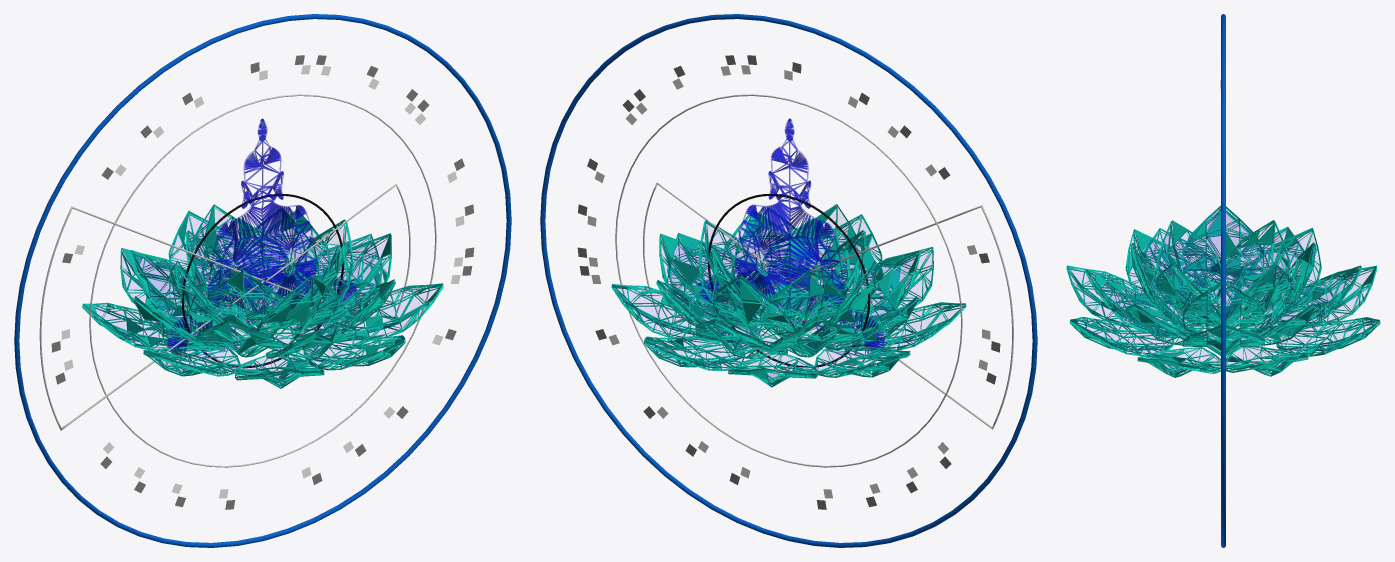
File: buddha.obj
3 renders of one model, left to right at view 1: azimuth 30°, elevation 25°; view 2: azimuth 150°, elevation 25°; view 3: azimuth 270°, elevation 25°, orthographic. The views are drawn at different scales.
Visible parts, largest first — view 1: lotus_wireframe, buddha, large_circle, lotus, medium_circle, outer_squares, inner_squares, sector_large, small_circle, sector_small; view 2: lotus_wireframe, buddha, large_circle, lotus, medium_circle, outer_squares, inner_squares, sector_large, small_circle, sector_small; view 3: lotus_wireframe, lotus, large_circle.
Boxes of the visible parts, left/top/right/bottom form: lotus_wireframe: left=82, top=204, right=443, bottom=388; buddha: left=167, top=118, right=356, bottom=356; large_circle: left=14, top=14, right=511, bottom=547; lotus: left=92, top=220, right=411, bottom=384; medium_circle: left=89, top=94, right=436, bottom=467; outer_squares: left=51, top=55, right=474, bottom=509; inner_squares: left=61, top=65, right=464, bottom=498; sector_large: left=39, top=206, right=264, bottom=430; small_circle: left=181, top=193, right=344, bottom=368; sector_small: left=265, top=183, right=410, bottom=327; lotus_wireframe: left=611, top=204, right=966, bottom=387; buddha: left=697, top=118, right=884, bottom=355; large_circle: left=540, top=14, right=1037, bottom=547; lotus: left=624, top=218, right=941, bottom=382; medium_circle: left=615, top=94, right=962, bottom=467; outer_squares: left=577, top=55, right=1000, bottom=509; inner_squares: left=587, top=65, right=990, bottom=498; sector_large: left=789, top=205, right=1013, bottom=429; small_circle: left=707, top=193, right=870, bottom=368; sector_small: left=643, top=182, right=788, bottom=324; lotus_wireframe: left=1066, top=205, right=1380, bottom=377; lotus: left=1087, top=210, right=1361, bottom=373; large_circle: left=1221, top=14, right=1225, bottom=547.
Bounding box in the file's own units: 14.37 × 14.37 × 8.45.
